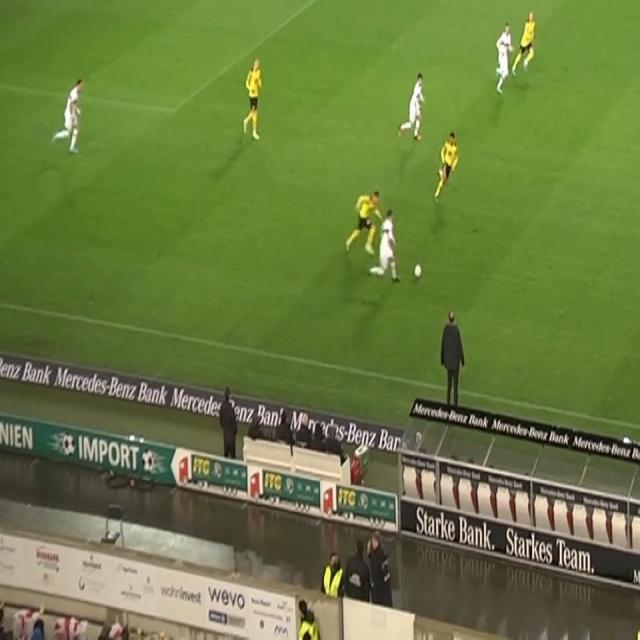ball: (414, 262, 422, 278)
